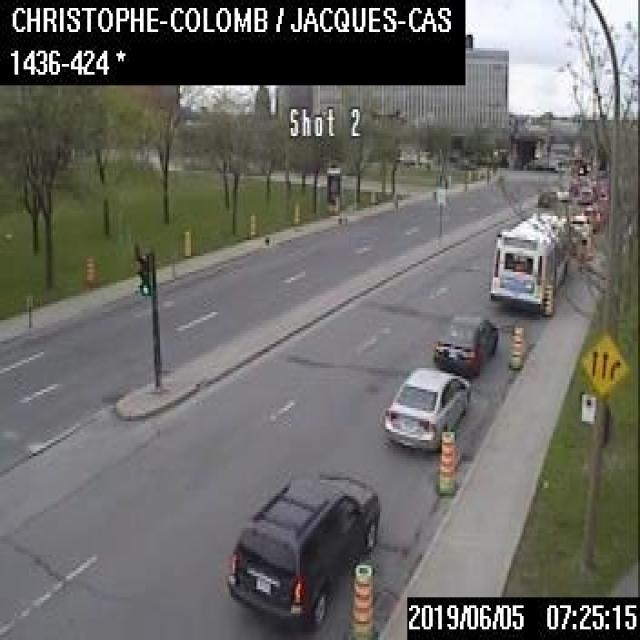bus: (488, 203, 568, 304)
construction: (342, 558, 373, 638), (433, 427, 456, 496), (506, 317, 524, 368), (538, 282, 555, 314), (174, 227, 191, 256), (84, 251, 95, 288), (289, 195, 300, 221), (246, 208, 256, 235)
vehicle: (224, 464, 380, 621), (378, 364, 469, 451), (432, 310, 496, 375), (580, 202, 604, 228), (568, 212, 592, 235), (536, 184, 554, 202), (578, 183, 593, 200), (555, 182, 568, 197)
